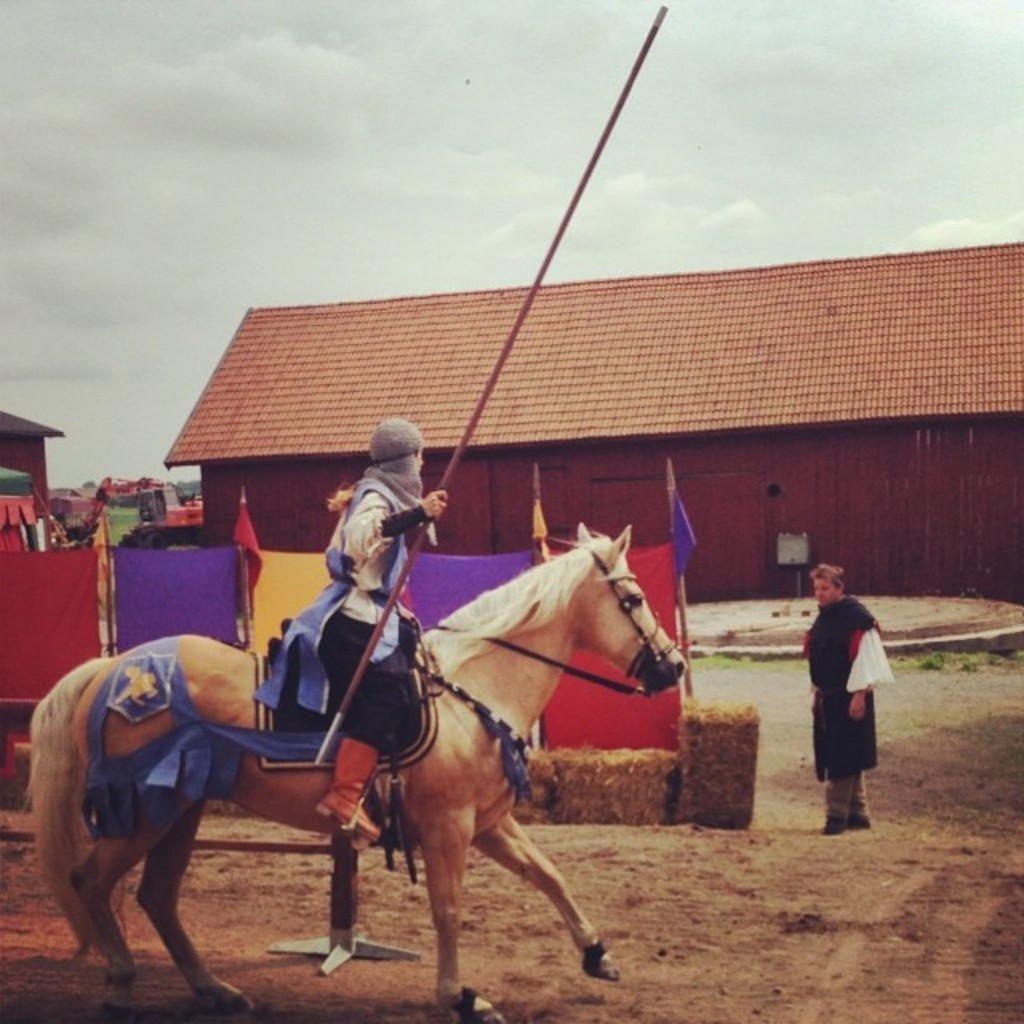horse: (21, 522, 686, 1023)
